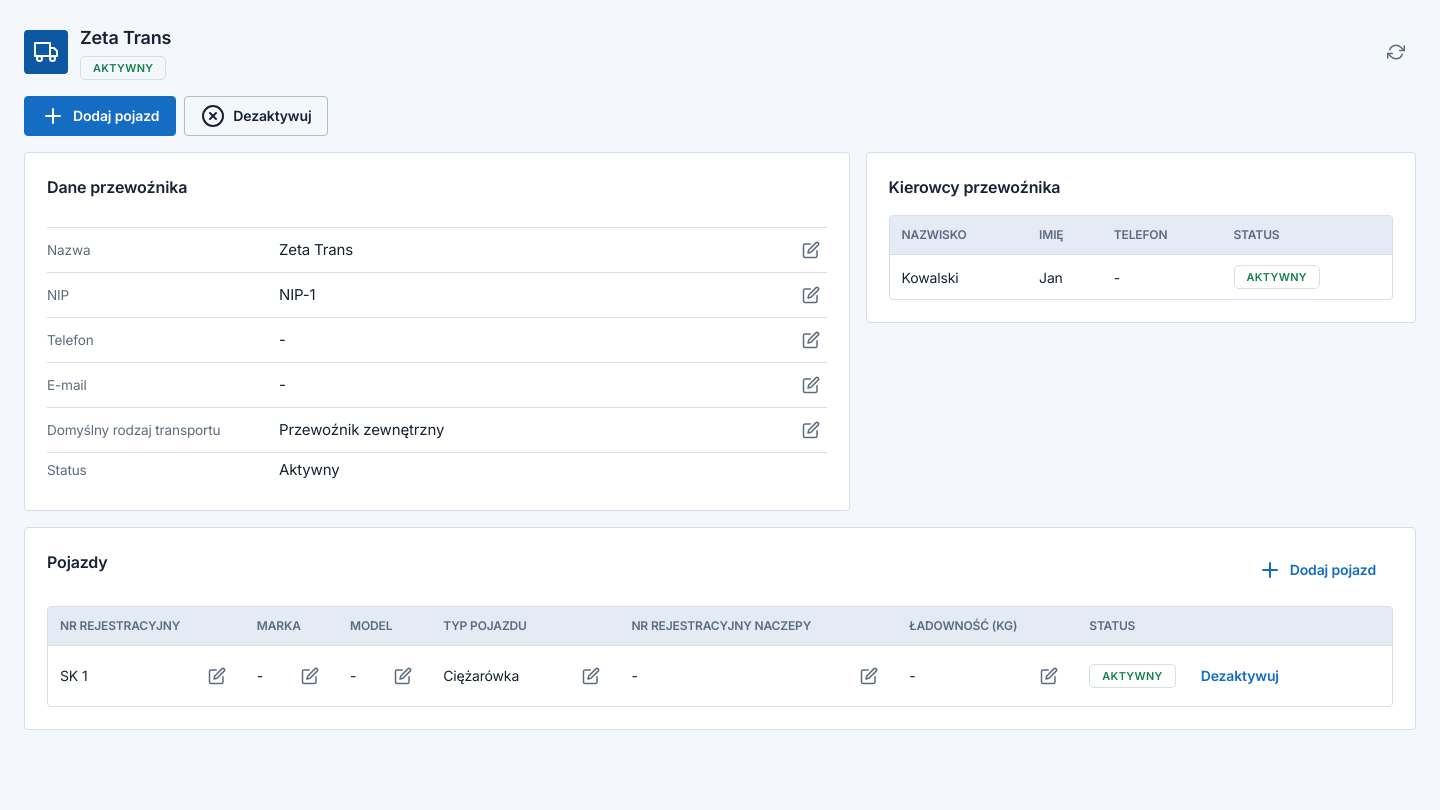
Test: CarrierDetailsView › edits a single carrier field in its own dialog
Check: the heading "Zeta Trans" is shown, box [80, 24, 171, 52]
Click the button named "Edytuj: Telefon" at coordinates (811, 340), box [795, 324, 827, 356]
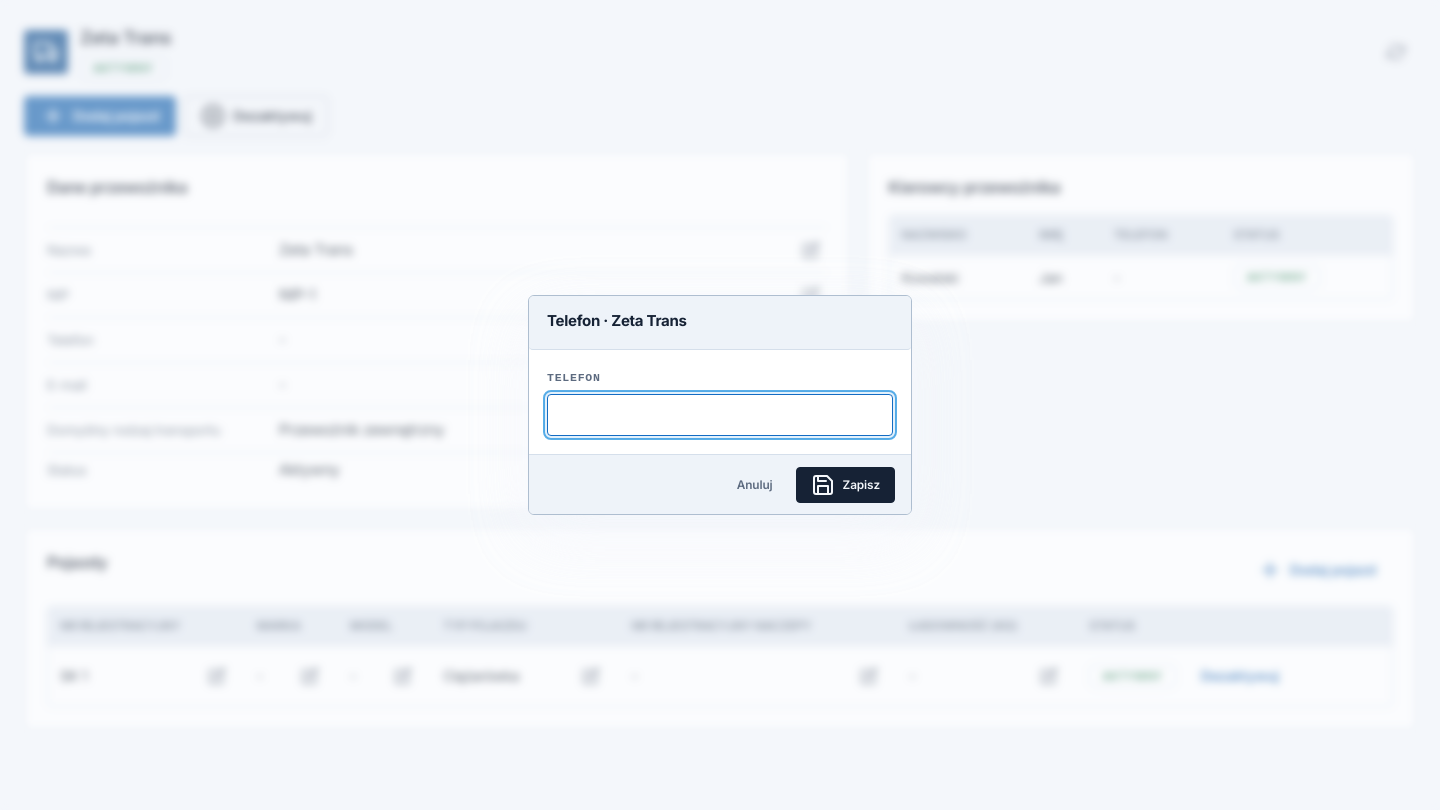
Check: the number of fields is 1
Type " 500600700 " into the field labelled "Telefon" at coordinates (720, 415), box [547, 394, 893, 436]
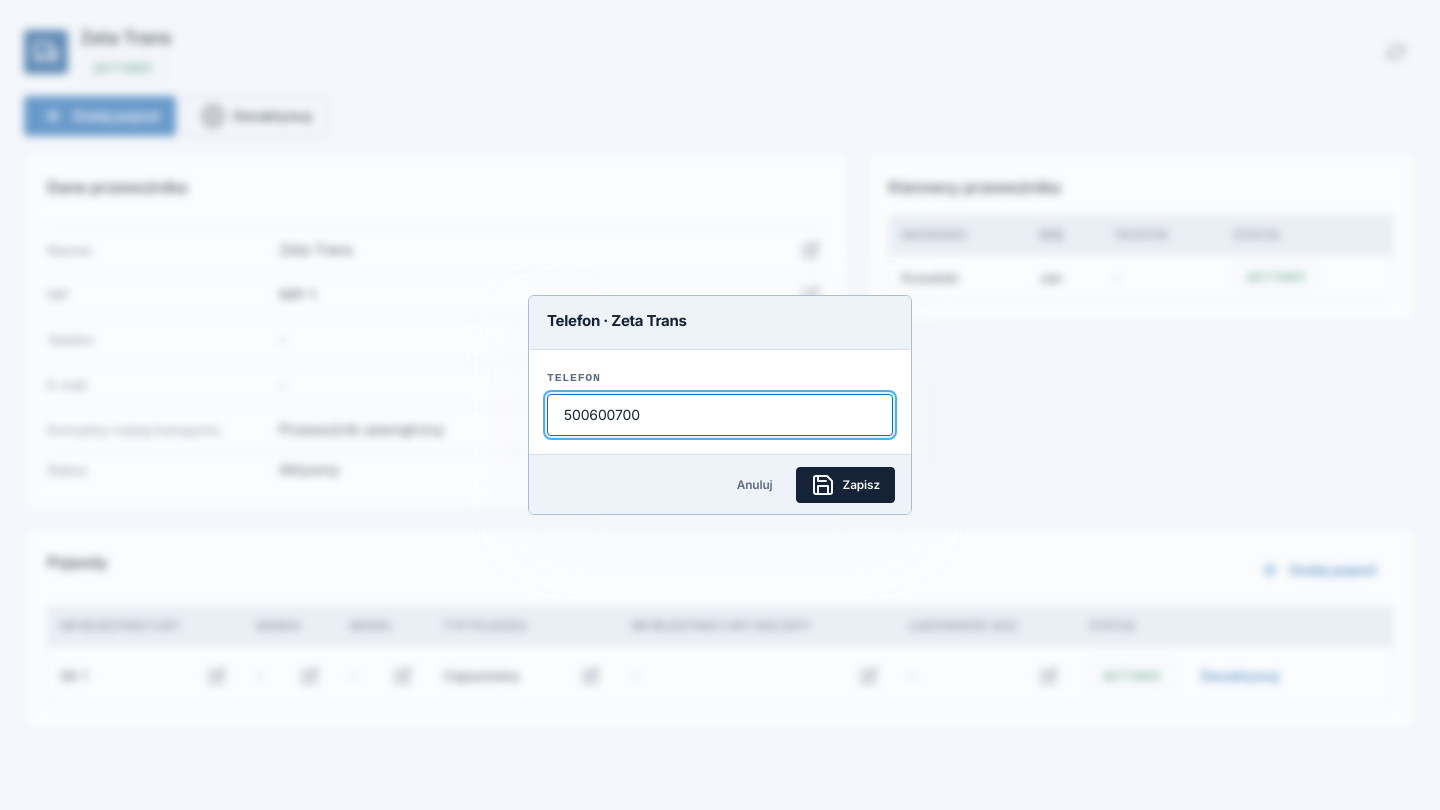
Click the button "Zapisz" at coordinates (845, 484), box [796, 466, 895, 502]
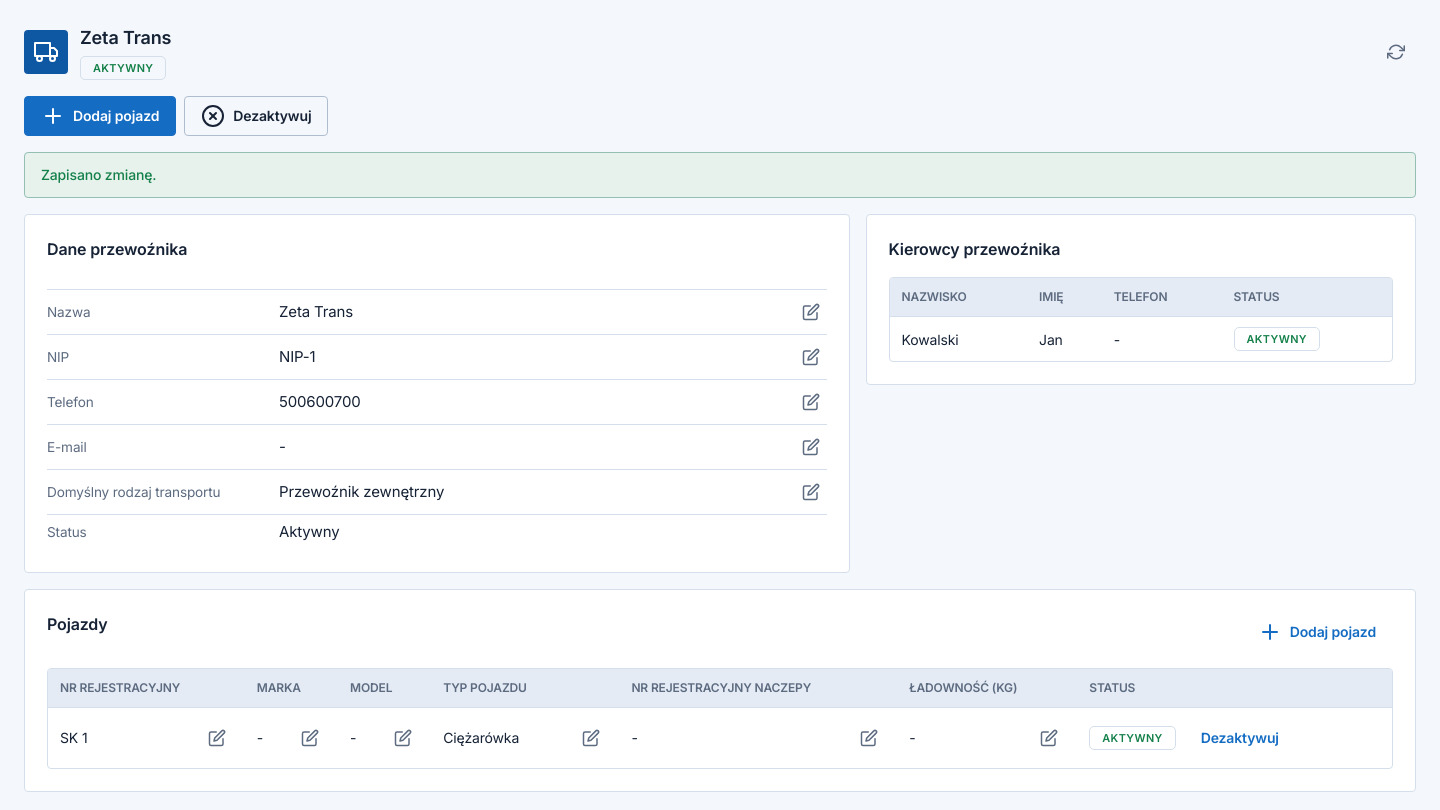
Check: the text "Zapisano zmianę." is shown, box [41, 166, 156, 183]
